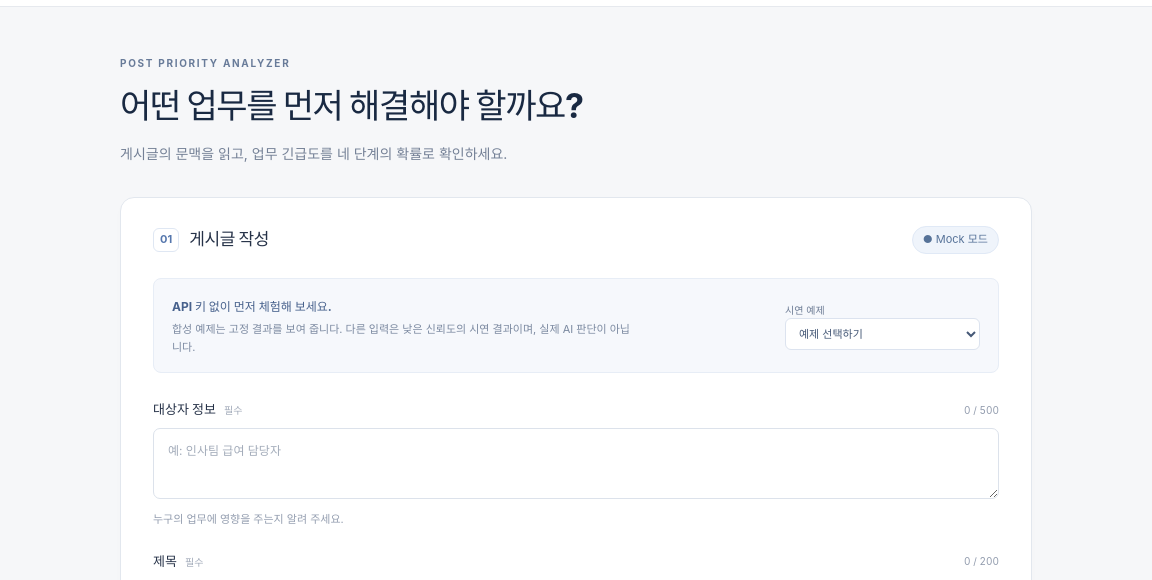
Test case: clears old results on edit and failed reanalysis
The image size is (1152, 580).
Expected: the text "● Mock 모드" is shown, [912,226,999,254]
Select "급여 마감 중단" in the dropdown labelled "시연 예제" at (882, 334), box [785,318,980,350]
(page scrolled)
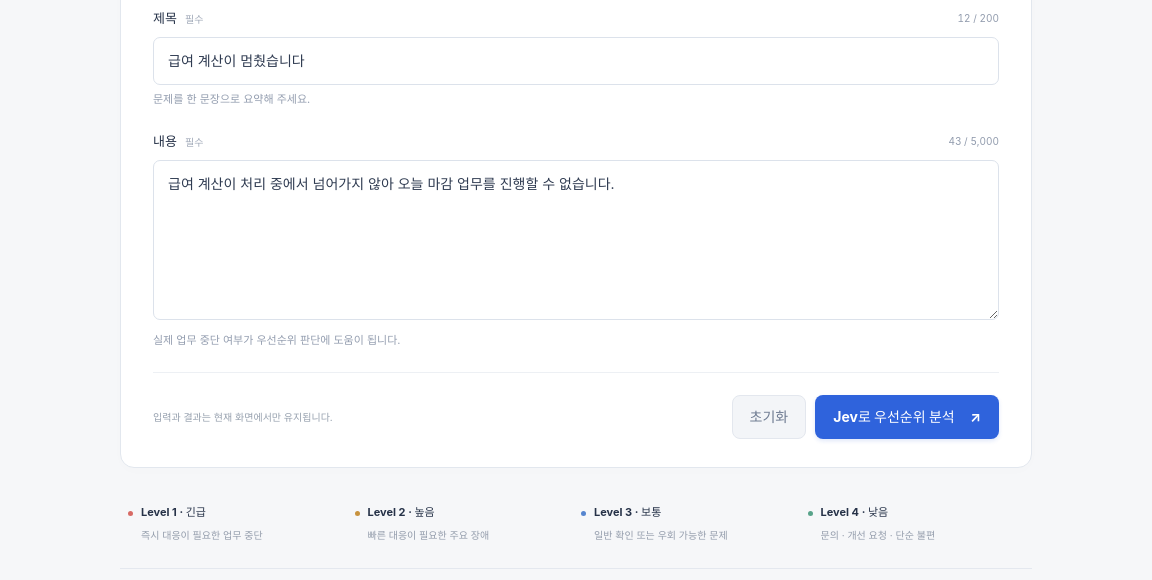
Click the button "Jev로 우선순위 분석 ↗".
click(907, 417)  # box [815,395,999,439]
(page scrolled)
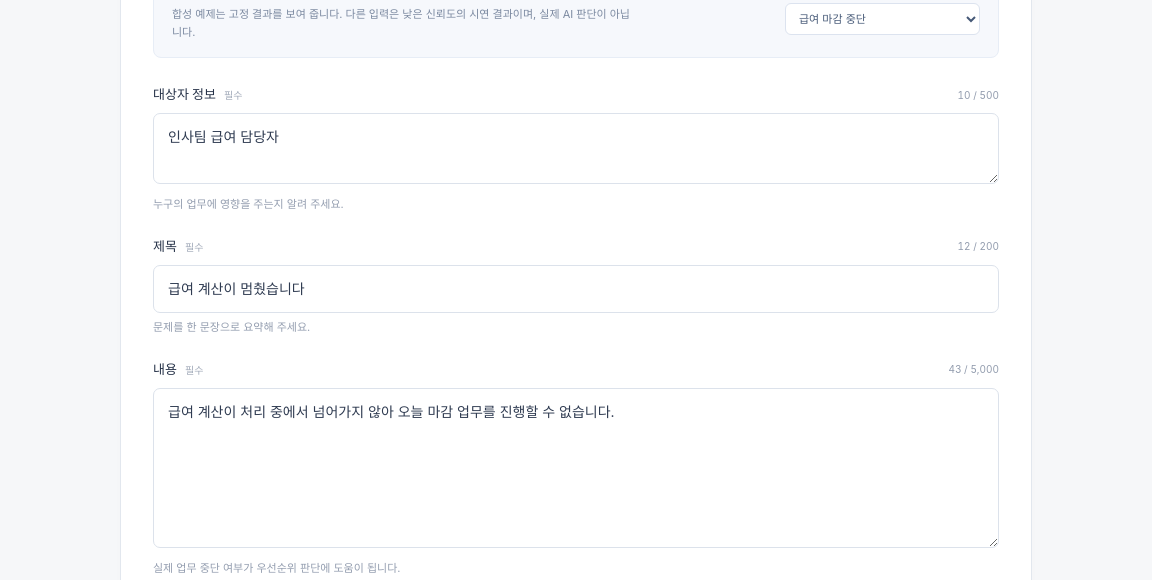
Type "!" into the field labelled "제목 필수".
click(576, 289); type("!")  # box [153,265,999,313]
(page scrolled)
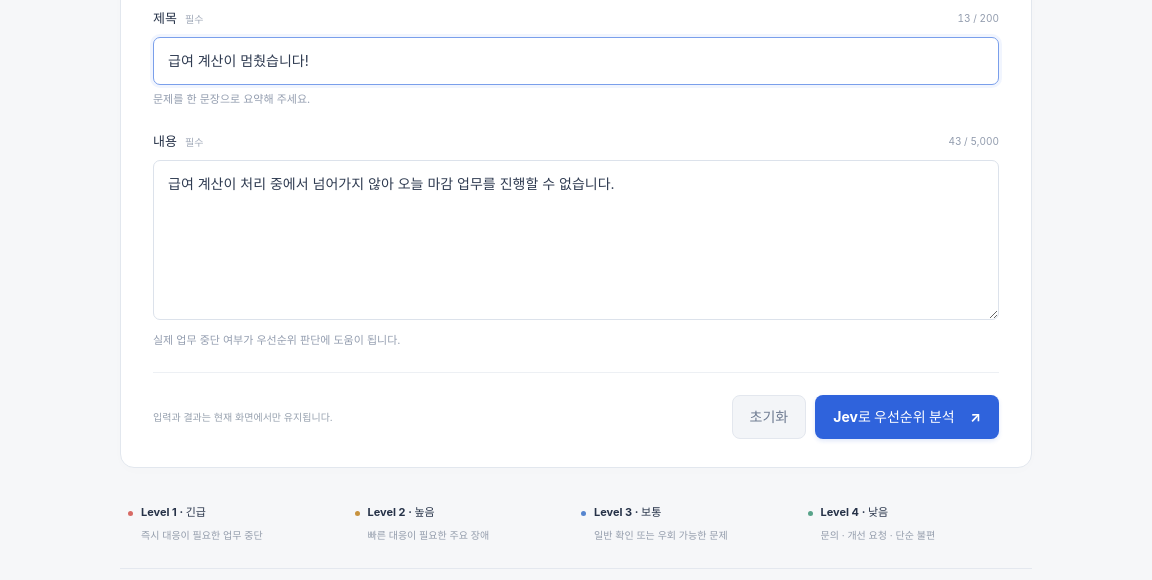
Click the button "Jev로 우선순위 분석 ↗".
click(907, 417)  # box [815,395,999,439]
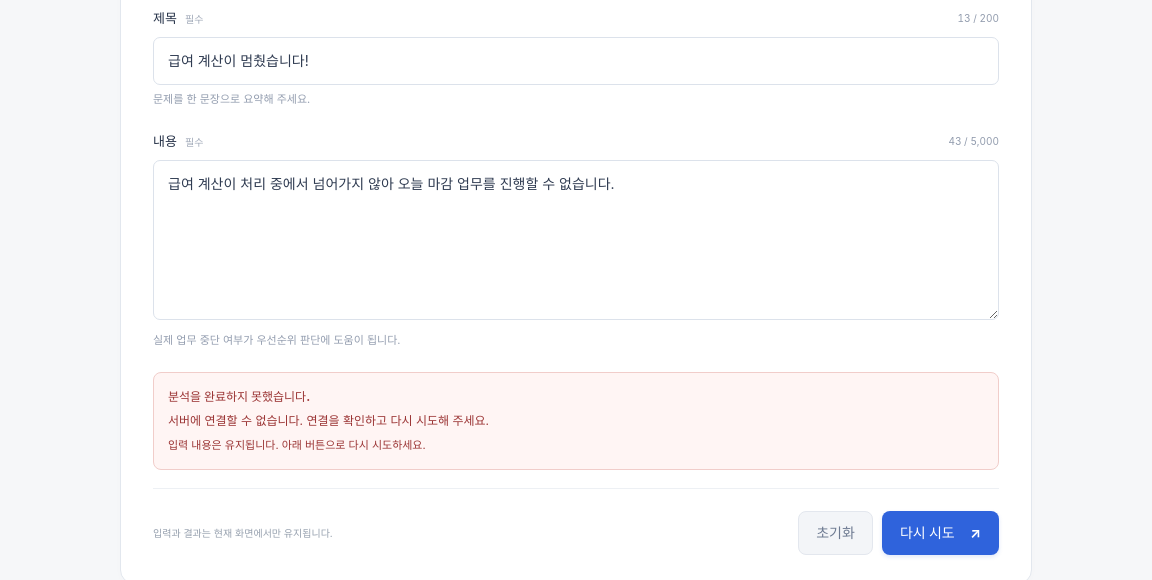
Now the message shows "서버에 연결할 수 없습니다", box [168,413,489,428]
